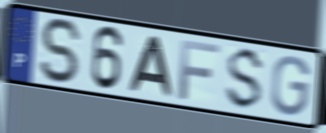6: (90, 24, 125, 92)
A: (126, 34, 175, 99)
F: (177, 38, 222, 103)
G: (269, 54, 312, 119)
S: (38, 16, 85, 86), (222, 46, 268, 113)
